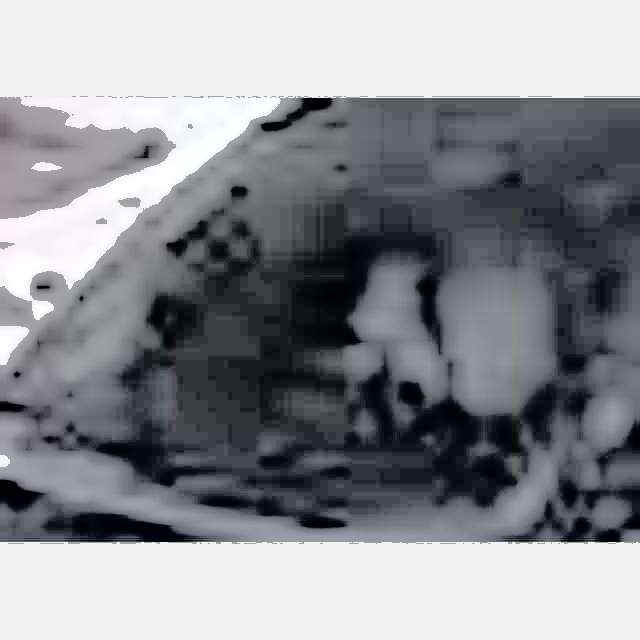pakai: (315, 228, 553, 434)
